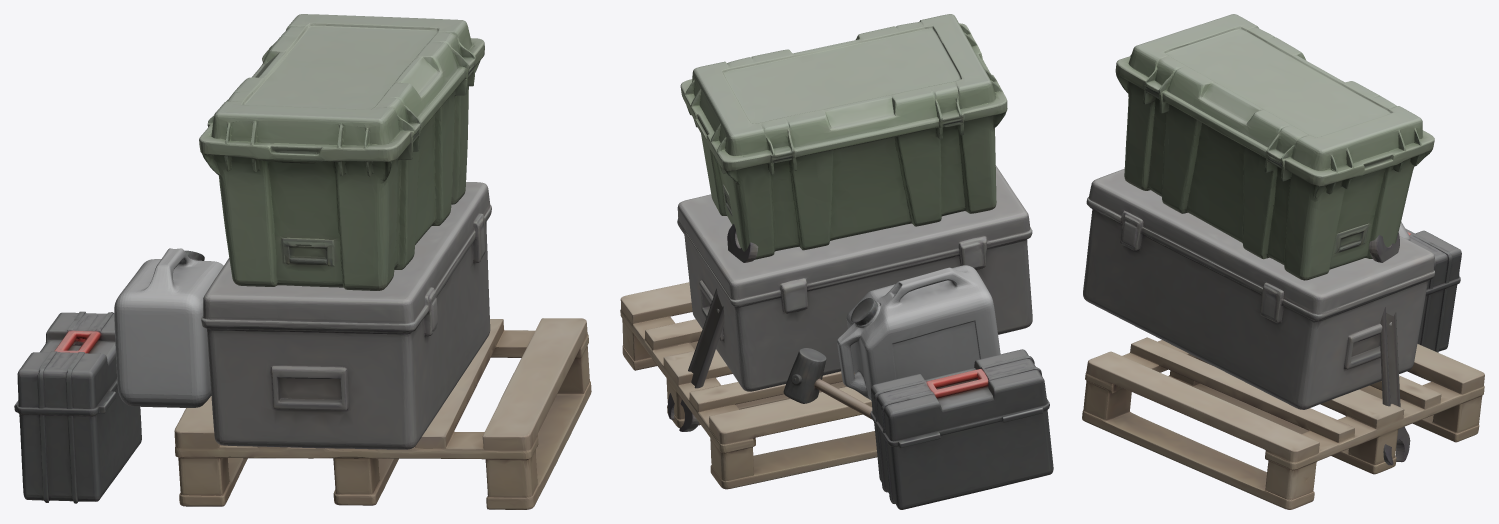
File: sam3d.glb
3 views of the same model, side by side, from view 1: azimuth 30°, elevation 25°; view 2: azimuth 150°, elevation 25°; view 3: azimuth 270°, elevation 25° (orthographic). The views are drawn at different scales.
Parts seen in each view (by area): view 1: object_06, object_05, object_04, object_03, object_02; view 2: object_06, object_05, object_03, object_04, object_02, object_01, object_00; view 3: object_06, object_05, object_04, object_03, object_01.
Boxes of the visible parts, x1,y1,x2,y2 form: object_06: (199,14,484,290); object_05: (201,182,491,449); object_04: (174,318,591,509); object_03: (14,311,141,503); object_02: (114,248,223,407); object_06: (680,14,1007,259); object_05: (677,165,1032,391); object_03: (870,349,1053,509); object_04: (620,282,877,489); object_02: (837,265,1000,400); object_01: (667,224,758,431); object_00: (783,348,872,419); object_06: (1115,14,1434,280); object_05: (1083,169,1434,409); object_04: (1082,337,1484,509); object_03: (1405,228,1461,352); object_01: (1369,232,1410,465).
Size of the model in its own units: 1.03 by 0.791 by 0.8012.
